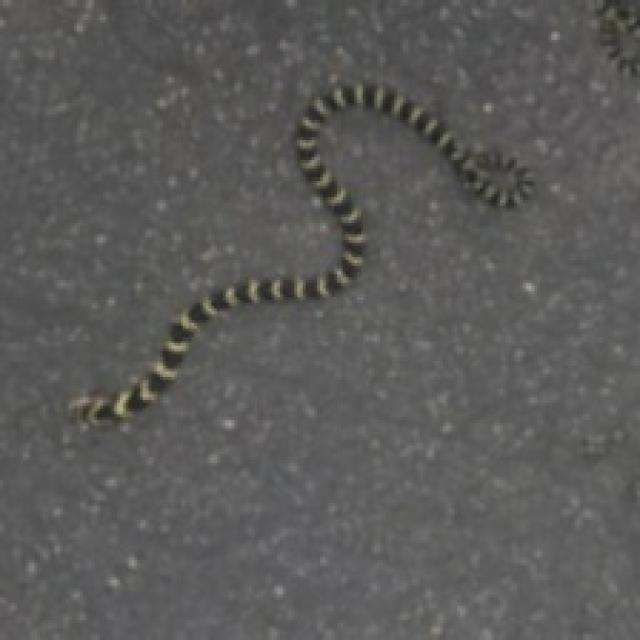king cobra: (69, 83, 531, 423)
